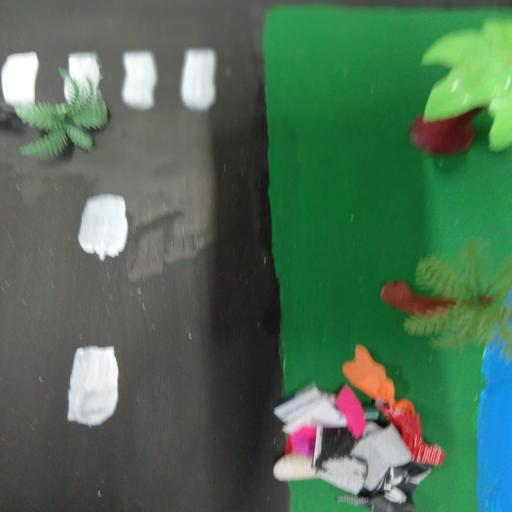fallen trees: (0, 68, 124, 163)
trash: (263, 346, 468, 512)
